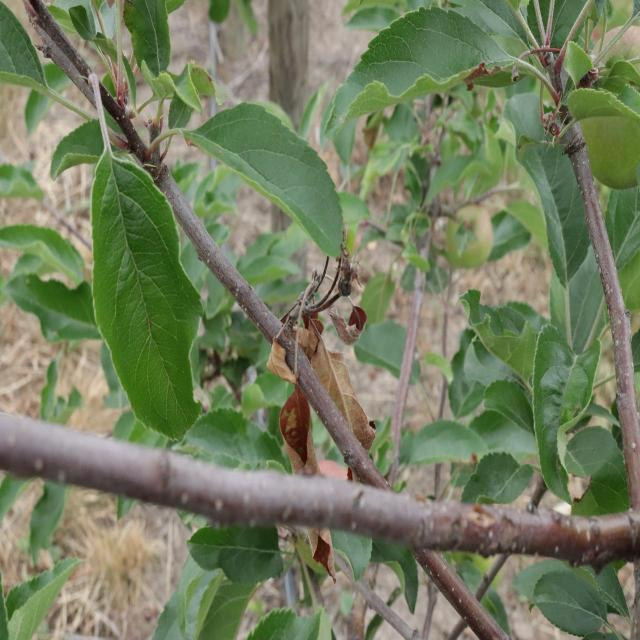-FireBlight-: (262, 276, 374, 466)
